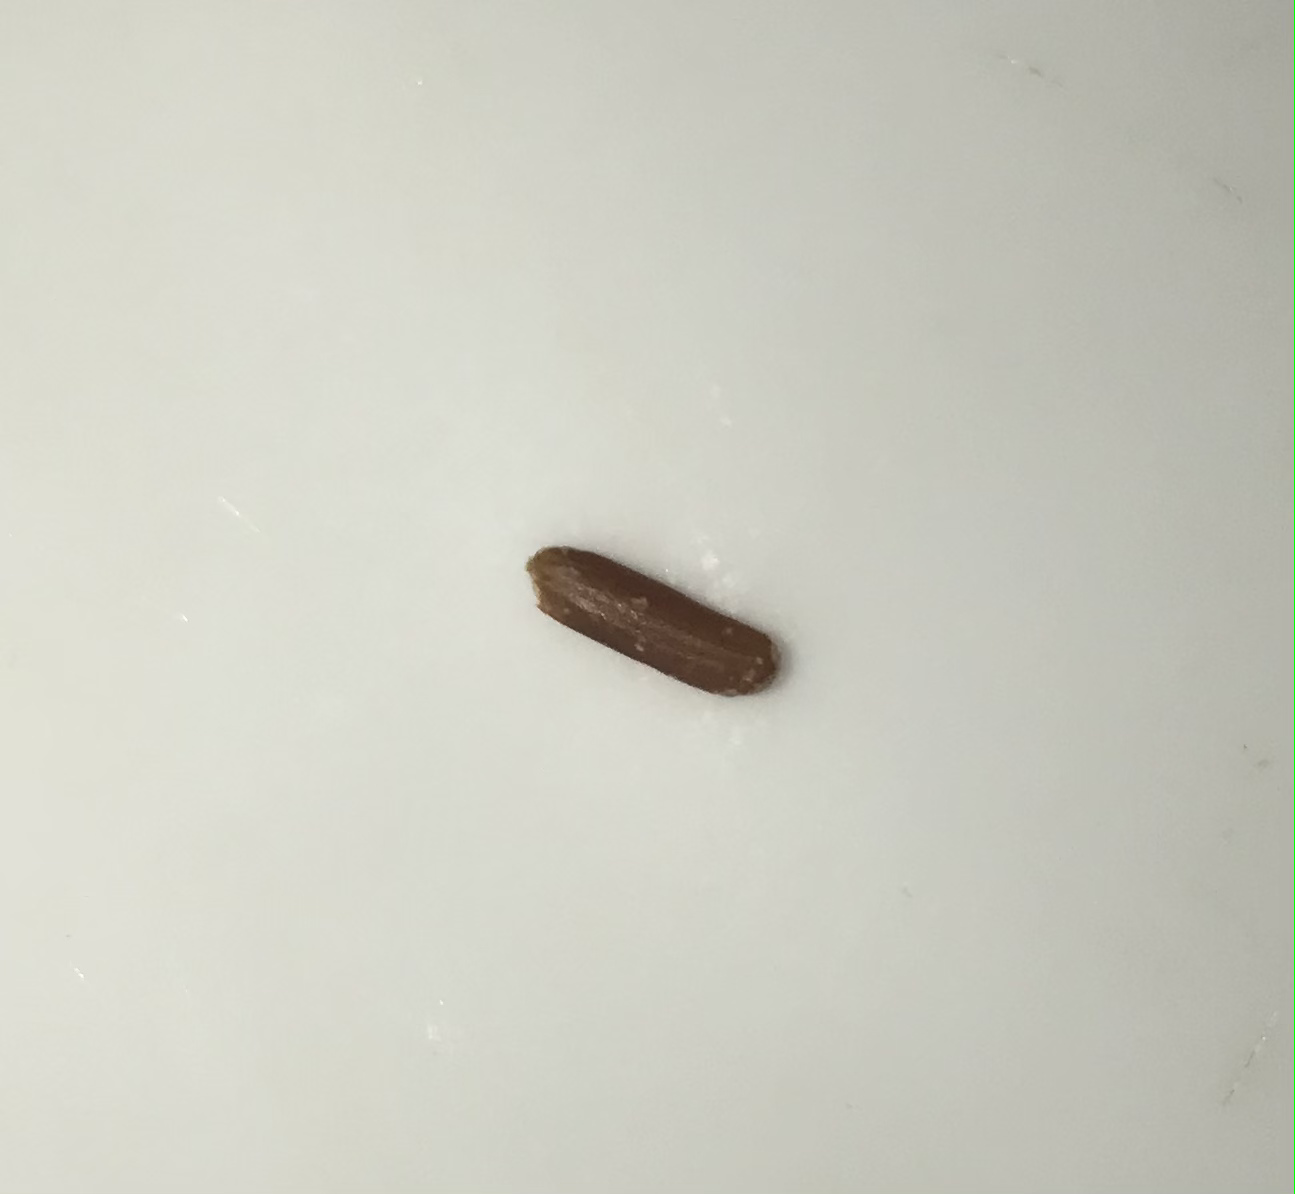Gao Lut Do: (520, 532, 789, 708)
